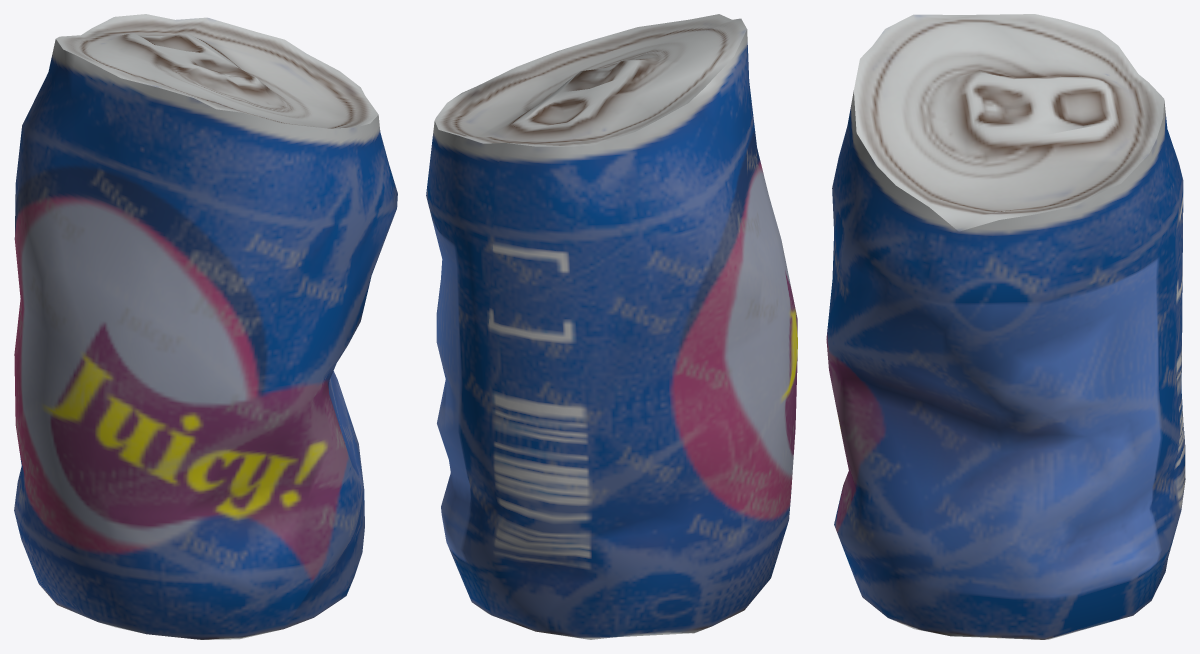
Rendered from uploads_files_2135669_SM_Snack09.FBX.
3 views of the same model, side by side, from view 1: azimuth 30°, elevation 25°; view 2: azimuth 150°, elevation 25°; view 3: azimuth 270°, elevation 25° (orthographic). The views are drawn at different scales.
Visible parts, largest first — view 1: SM_Snack09; view 2: SM_Snack09; view 3: SM_Snack09.
Boxes of the visible parts, bbox=[...] form: SM_Snack09: bbox=[14, 14, 397, 639]; SM_Snack09: bbox=[426, 14, 797, 639]; SM_Snack09: bbox=[826, 14, 1185, 639].
Size of the model in its own units: 6.93 by 10.93 by 6.73.
